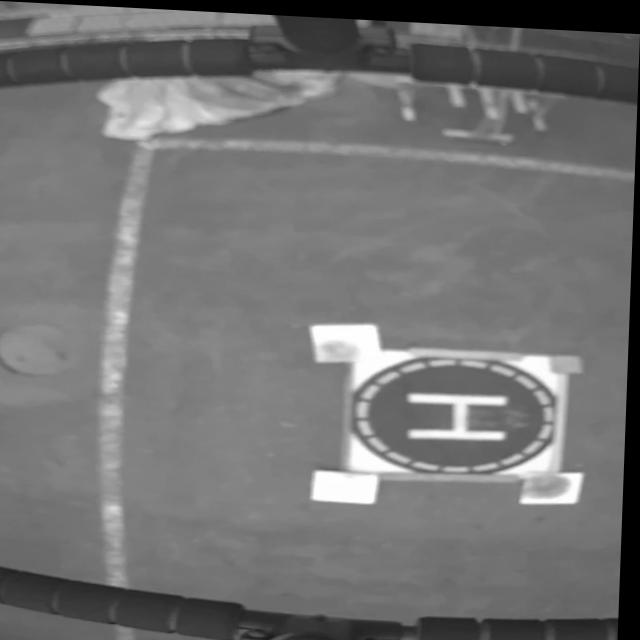Helipad: (408, 387, 511, 435)
